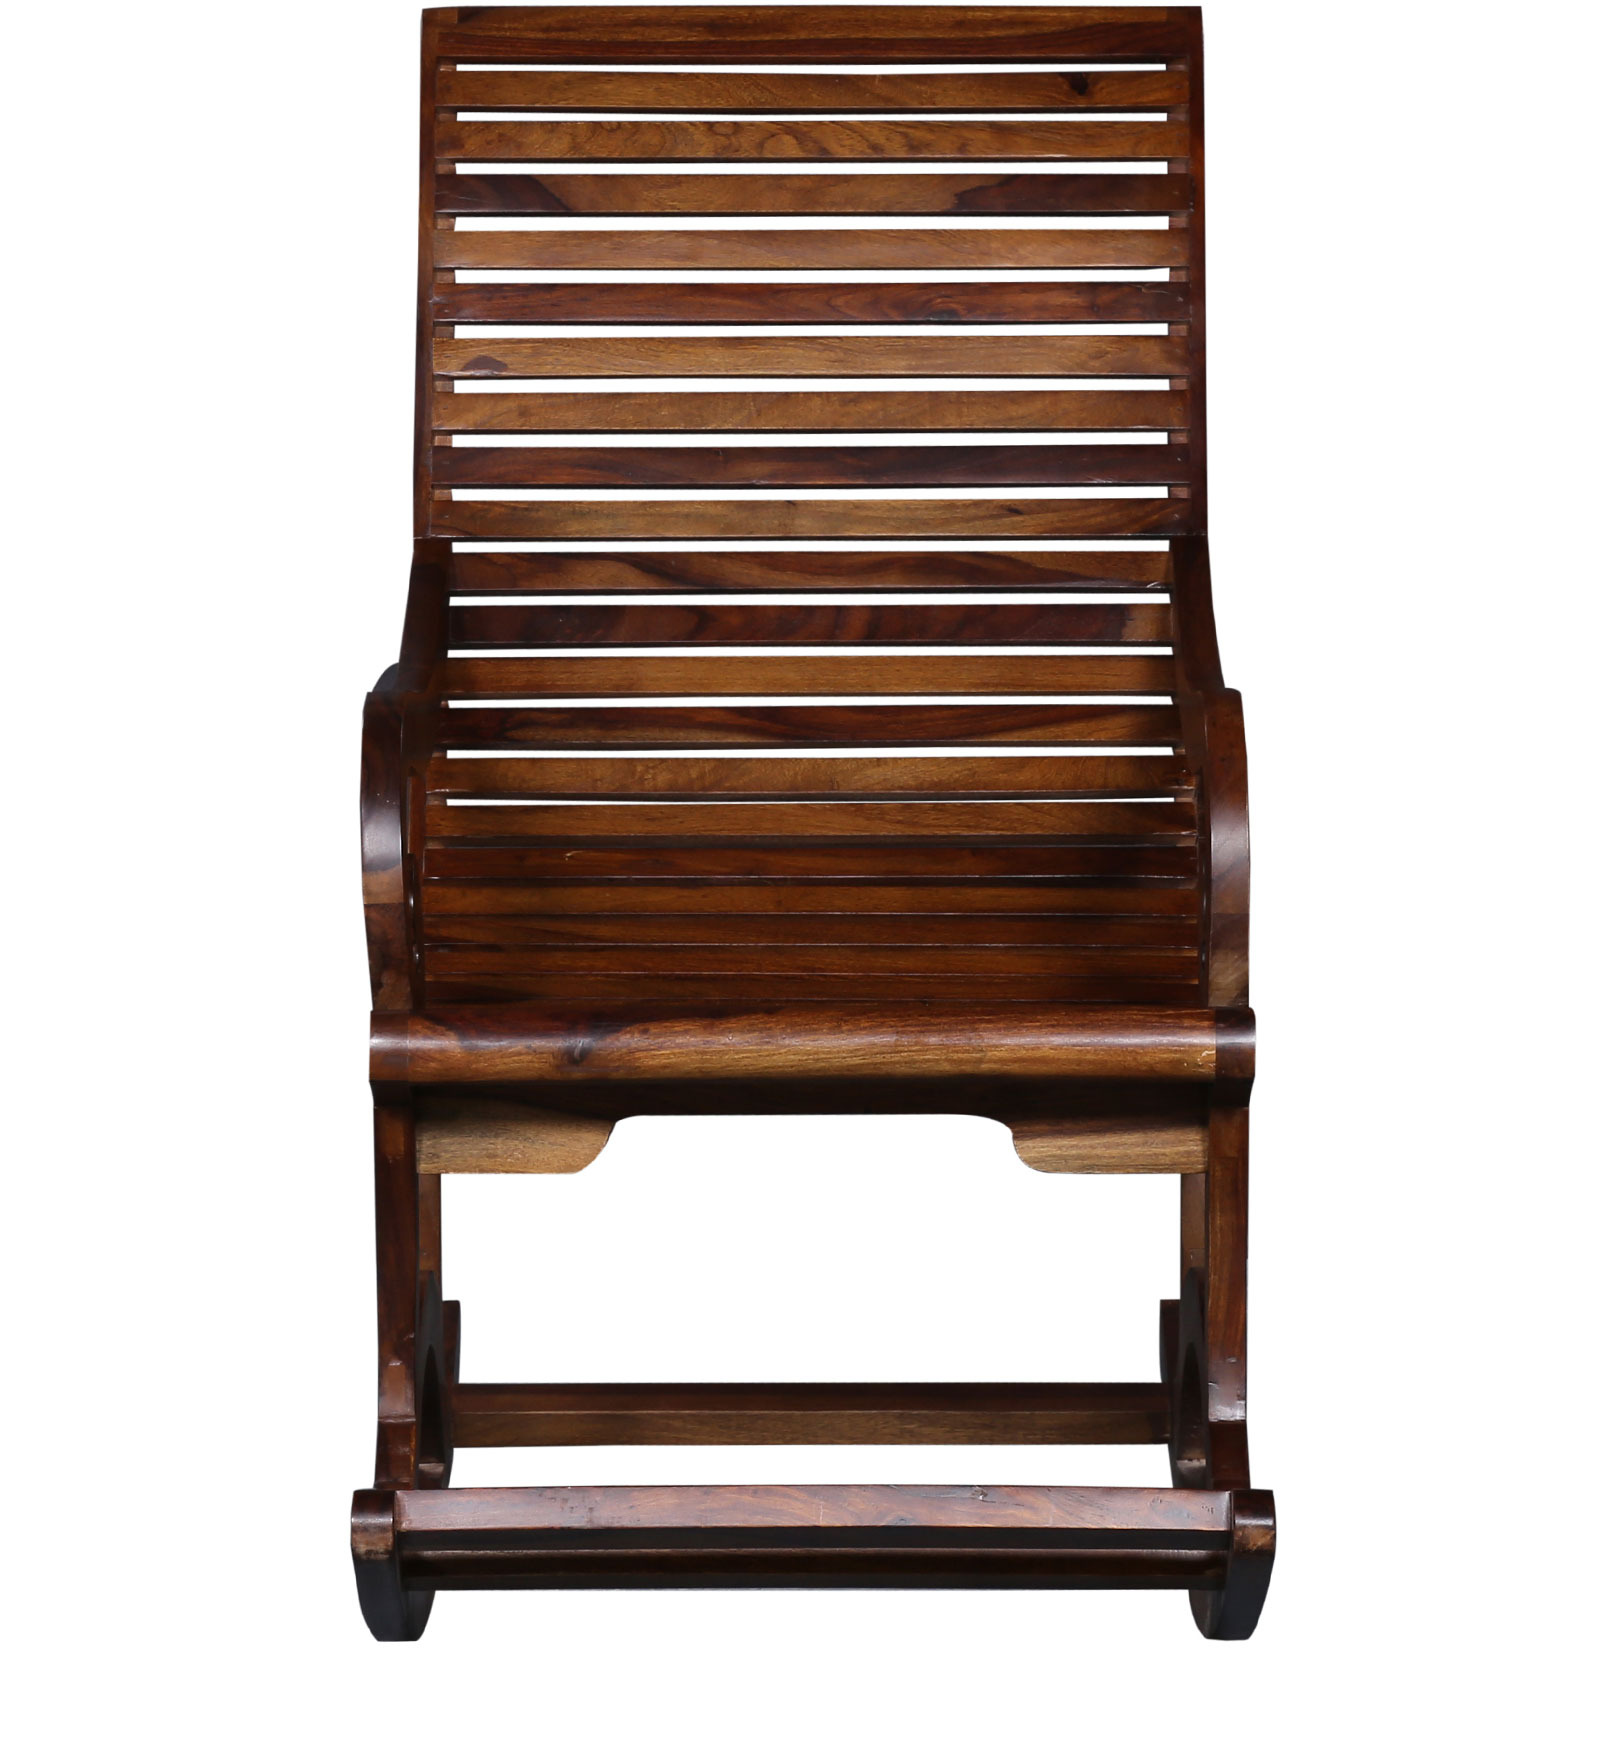Wellesley Rocking Chair in Provincial Teak Finish by Amberville: (336, 34, 1343, 1663)
